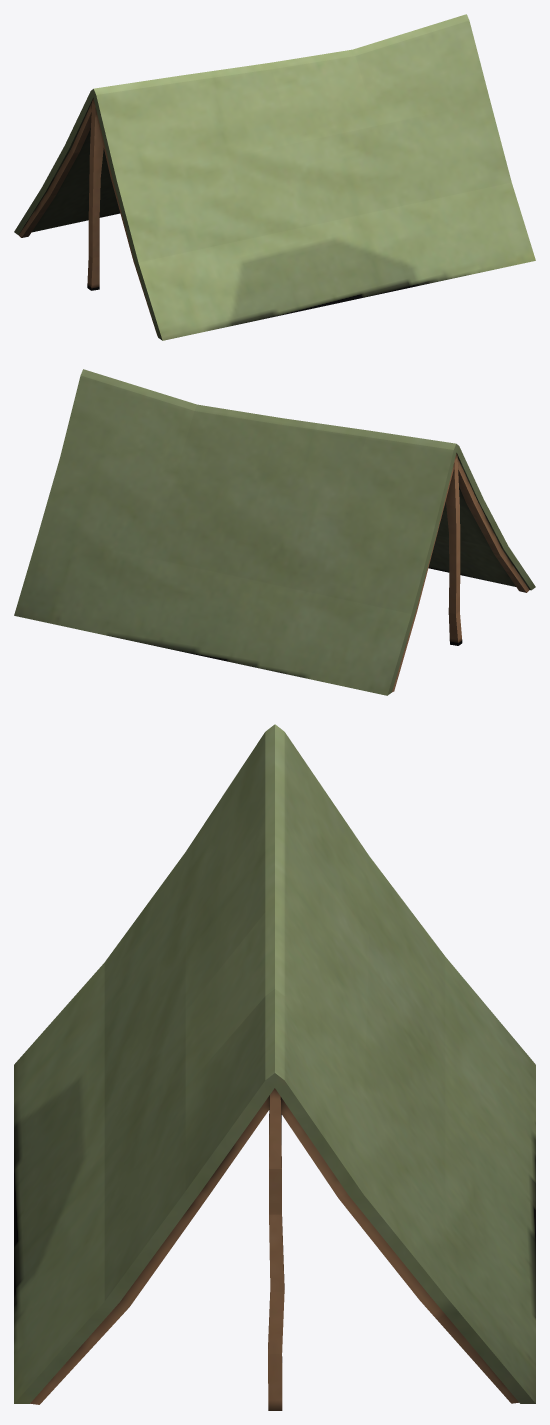
File: çadır.fbx
3 views of the same model, one above another, from view 1: azimuth 30°, elevation 25°; view 2: azimuth 150°, elevation 25°; view 3: azimuth 270°, elevation 25° (orthographic). The views are drawn at different scales.
Visible parts, largest first — view 1: çadır; view 2: çadır; view 3: çadır.
Boxes of the visible parts, box(x1,y1,x2,y2) form: çadır: box(14, 14, 535, 340); çadır: box(14, 369, 535, 695); çadır: box(14, 724, 535, 1410).
Size of the model in its own units: 2767 by 1477 by 1882.
Materials: 1 (1 with a texture image).
